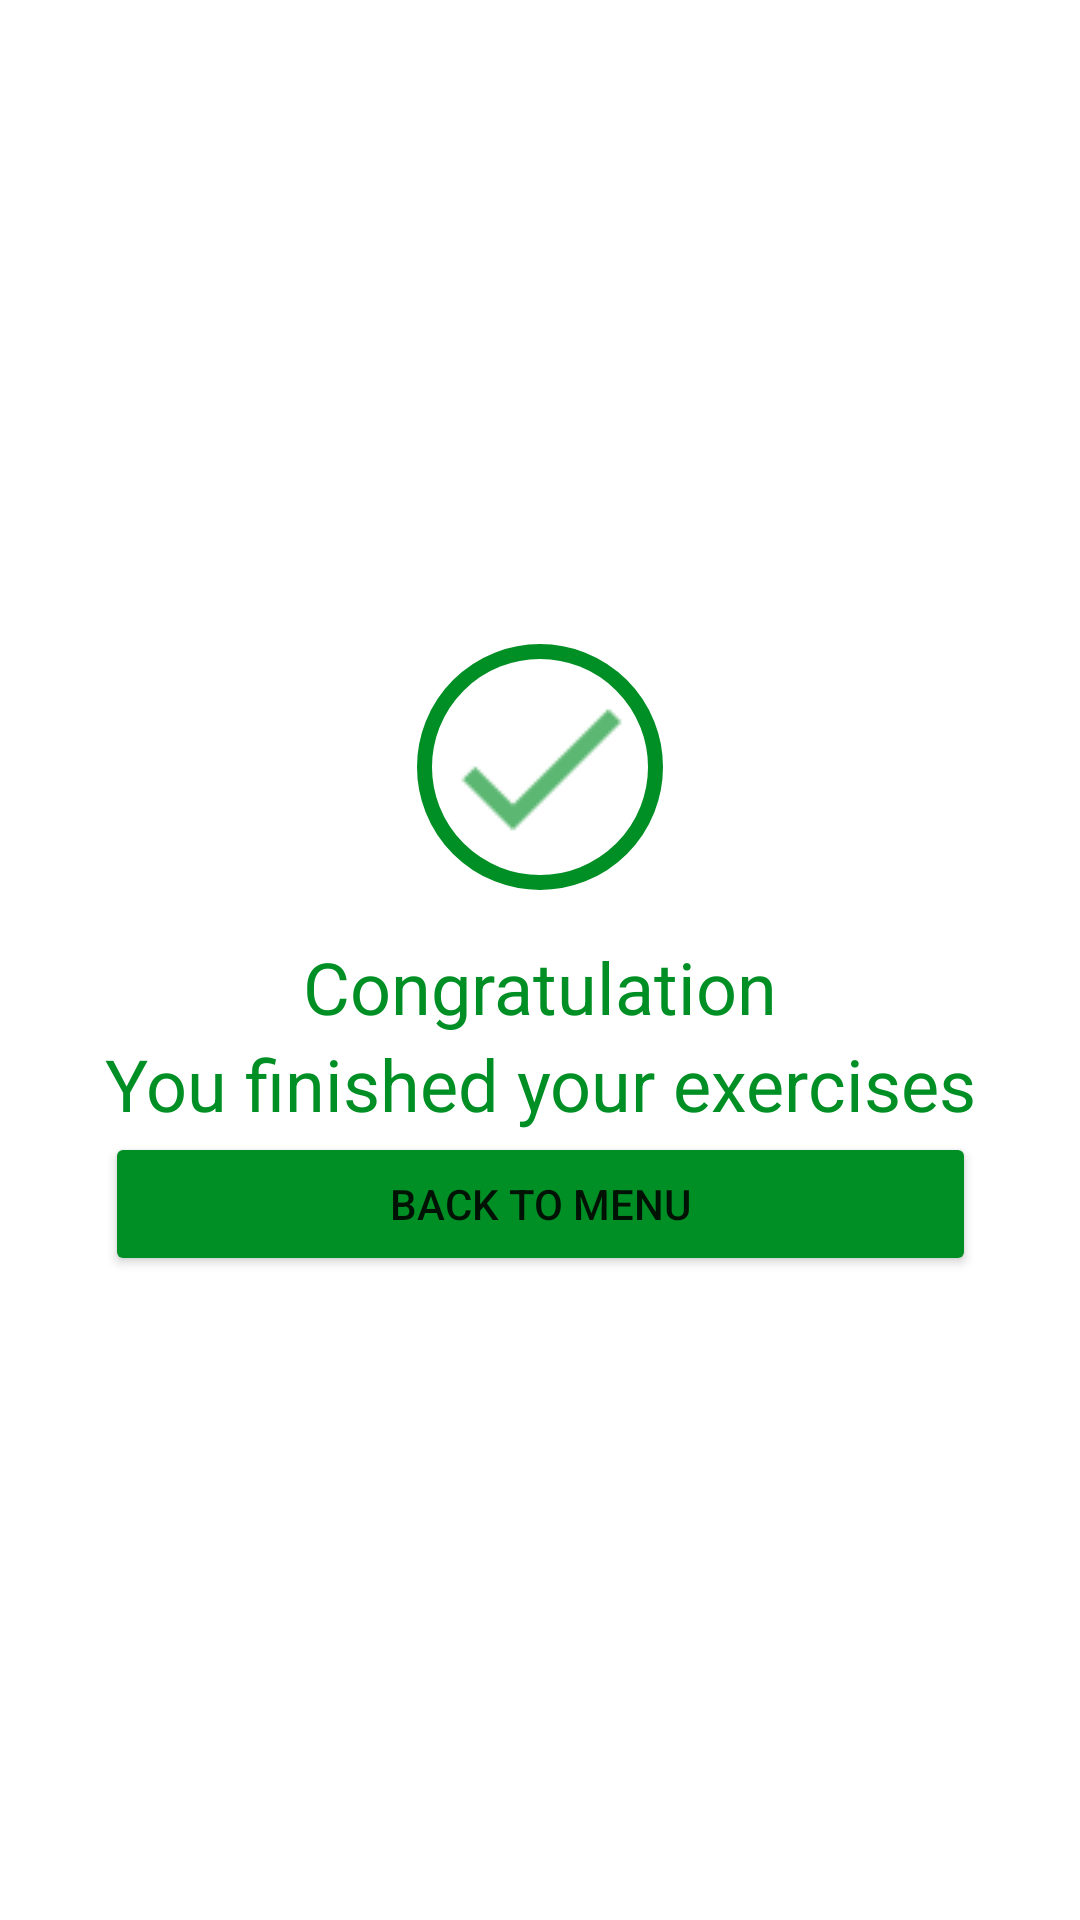

Icon click points for this 1080*1920 phone screenshot, format [x,y]:
done: [540,767]
